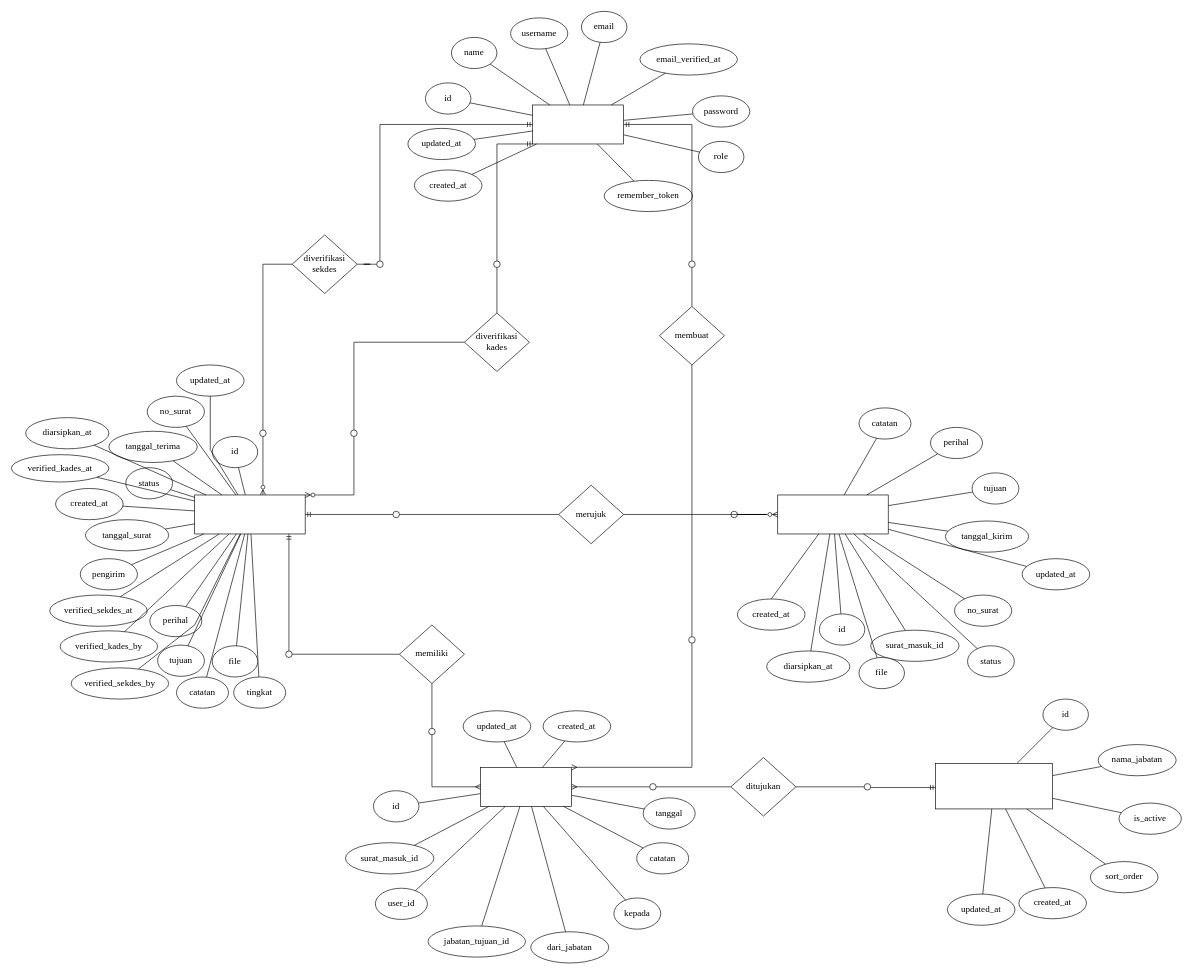
Image size: 1193x974. Some labels were removed from this diagram. The centre of each missing label's shape, as x and y in pixels:
DISPOSISI: (x=526, y=786)
JABATAN TUJUAN DISPOSISI: (x=994, y=786)
SURAT KELUAR: (x=832, y=514)
SURAT MASUK: (x=249, y=514)
USER: (x=578, y=124)
